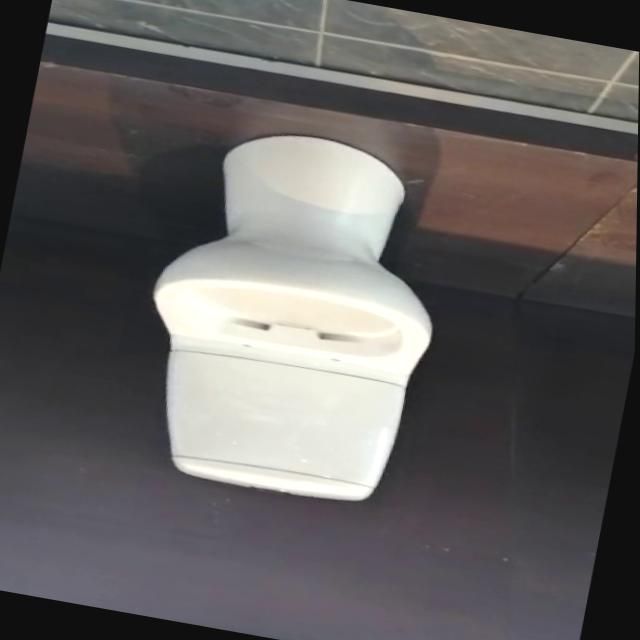toilet: (121, 114, 468, 515)
